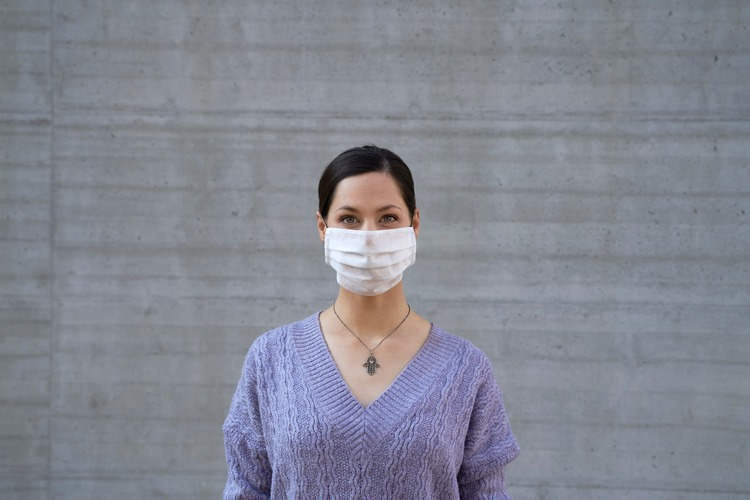without_mask: (329, 193, 407, 285)
